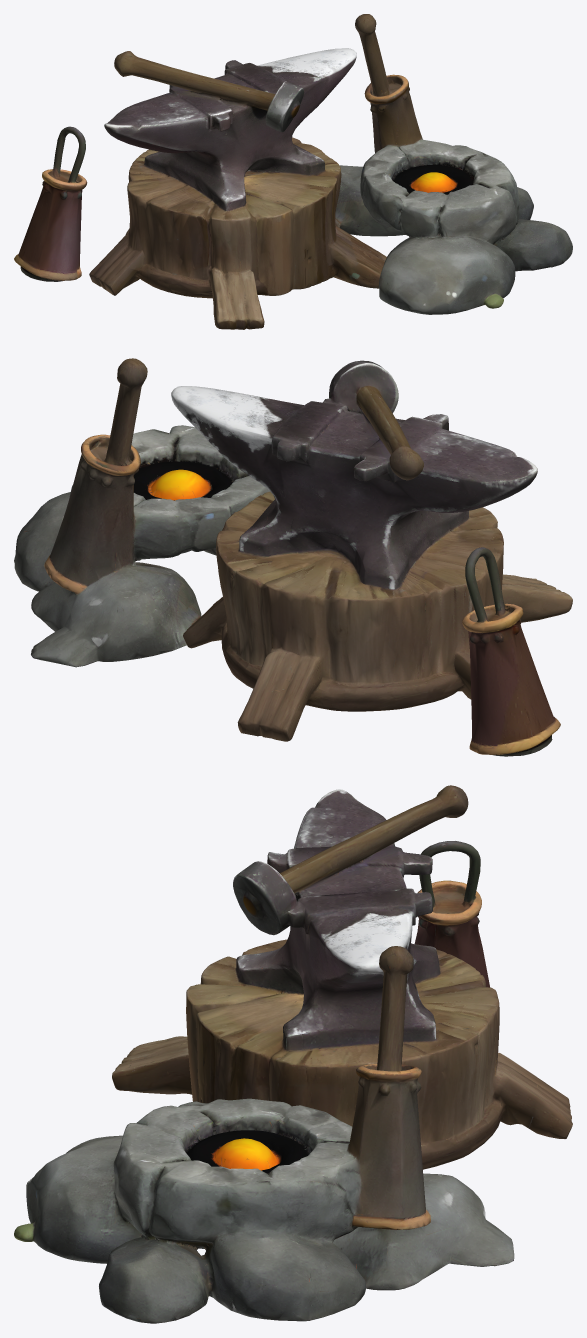
The model's file is forge.glb.
3 renders of one model, top to bottom at view 1: azimuth 30°, elevation 25°; view 2: azimuth 150°, elevation 25°; view 3: azimuth 270°, elevation 25°, orthographic. The views are drawn at different scales.
Visible parts, largest first — view 1: Mesh_0; view 2: Mesh_0; view 3: Mesh_0.
Boxes of the visible parts, x1=… form: Mesh_0: x1=14, y1=14, x2=572, y2=329; Mesh_0: x1=14, y1=358, x2=572, y2=756; Mesh_0: x1=14, y1=785, x2=572, y2=1323.
Bounding box in the file's own units: 1.9 × 0.8205 × 1.41.
1 material, 1 textured.
